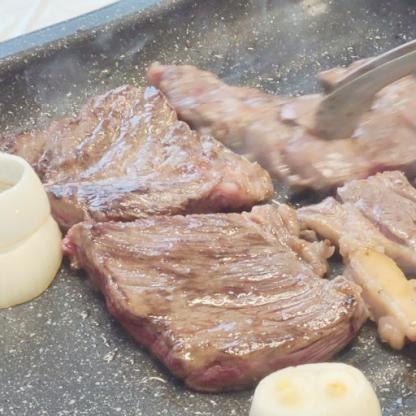Carne: (5, 90, 372, 370)
